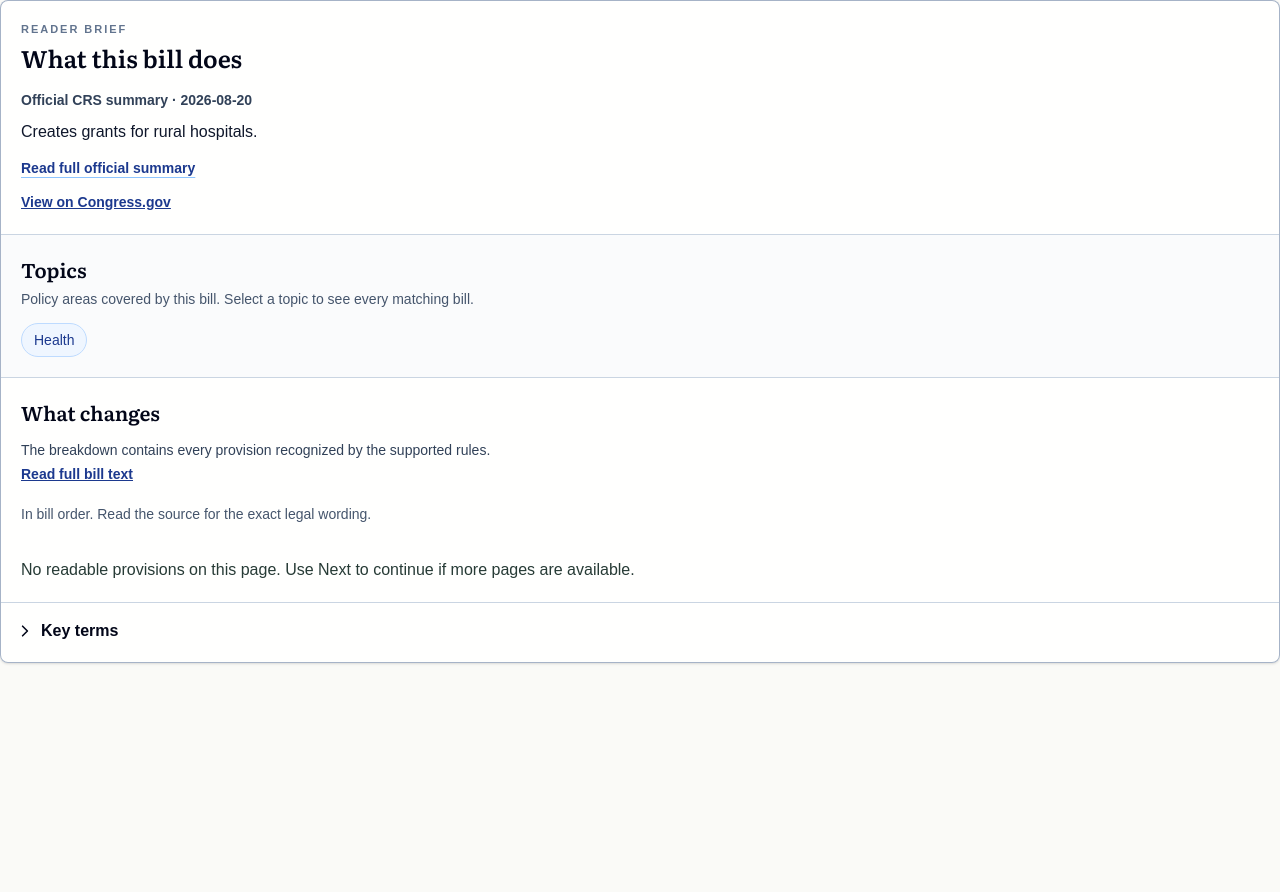
Test case: BillBrief › shows linked and unlinked definitions in the complete key terms list
Click the button "Key terms" at (68, 630), box [17, 618, 118, 642]
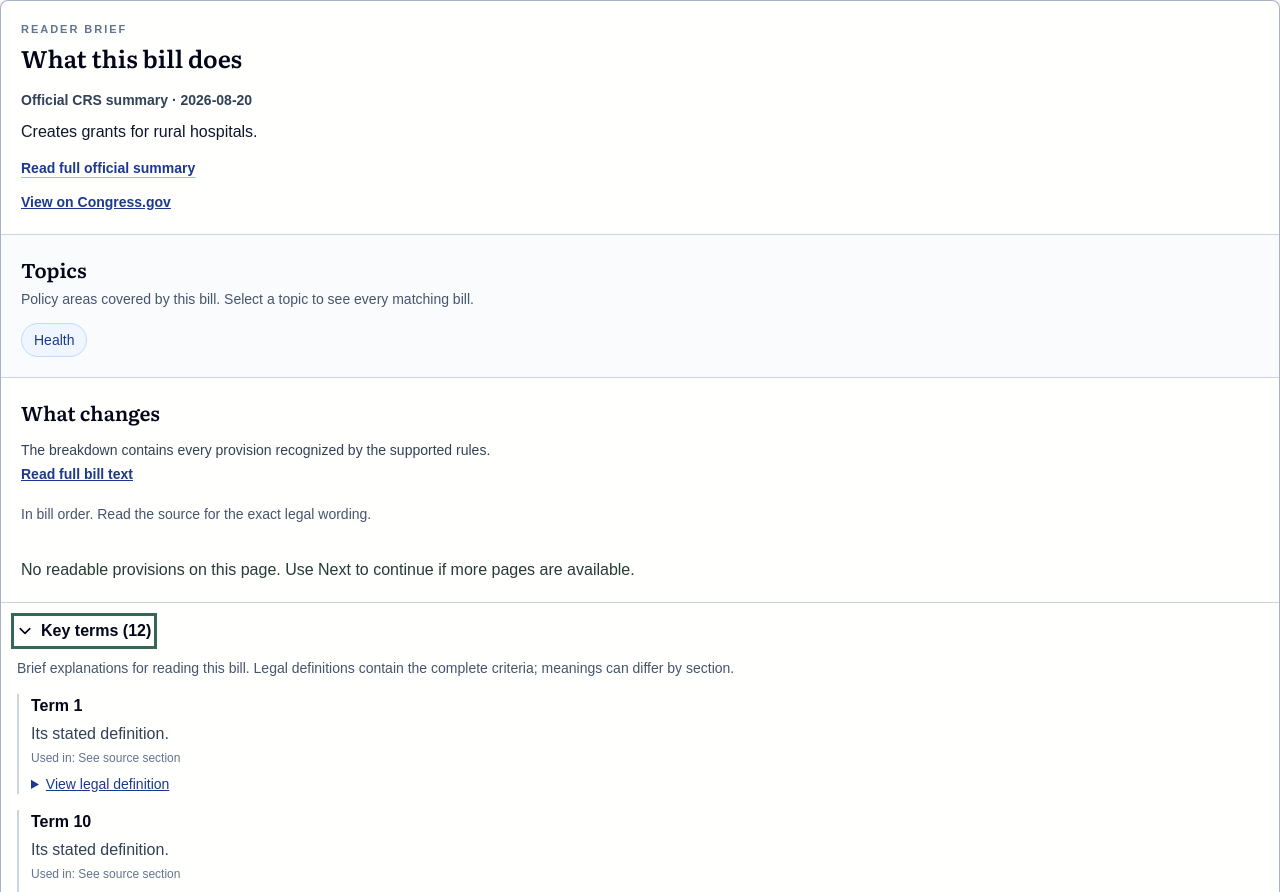
Expected: the button "Key terms (12)" is shown, [17, 618, 151, 642]
Expected: the 1st text "Its stated definition." is shown, [31, 724, 169, 742]
Click the 1st heading "View legal definition" at (108, 784), box [46, 776, 169, 792]
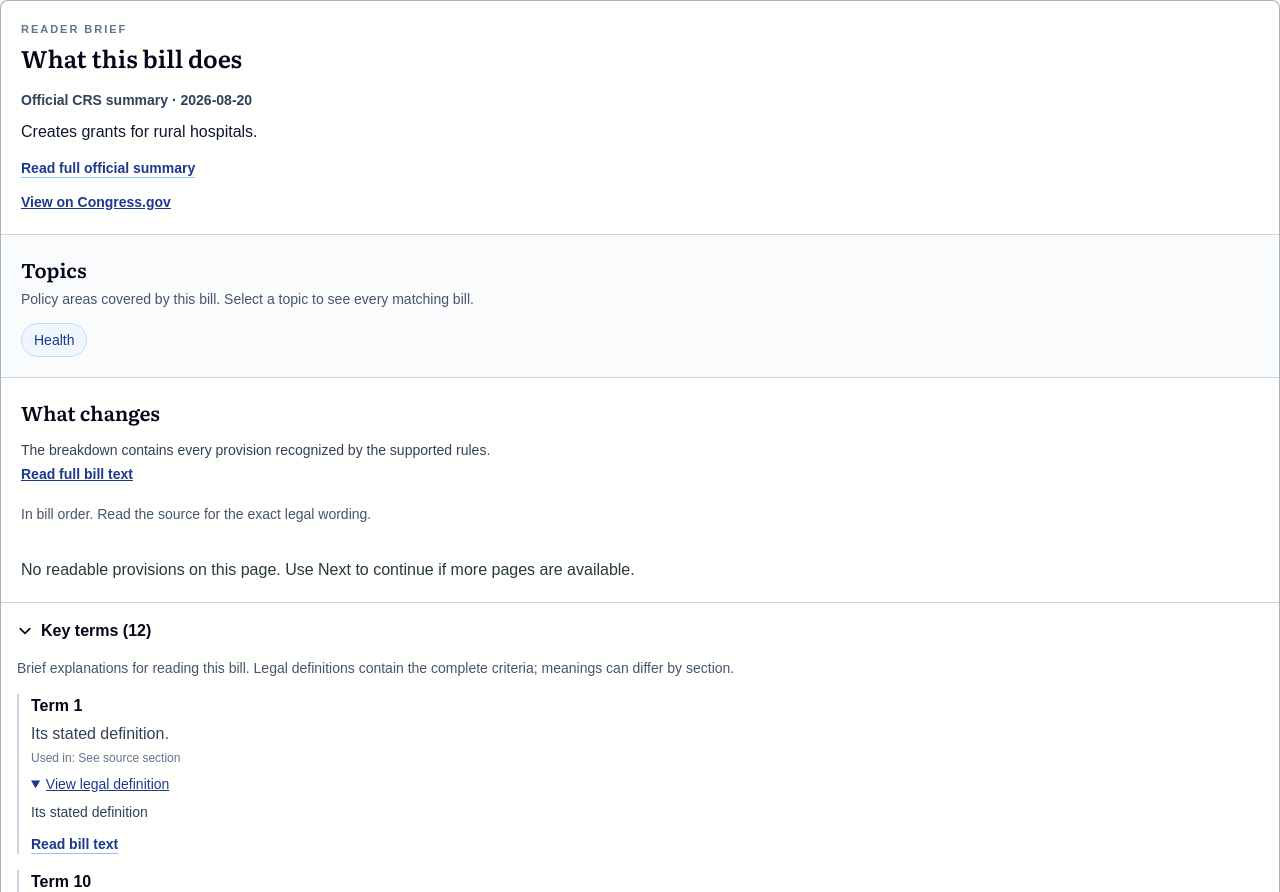
Expected: the text "Its stated definition" is shown, [31, 804, 148, 820]
